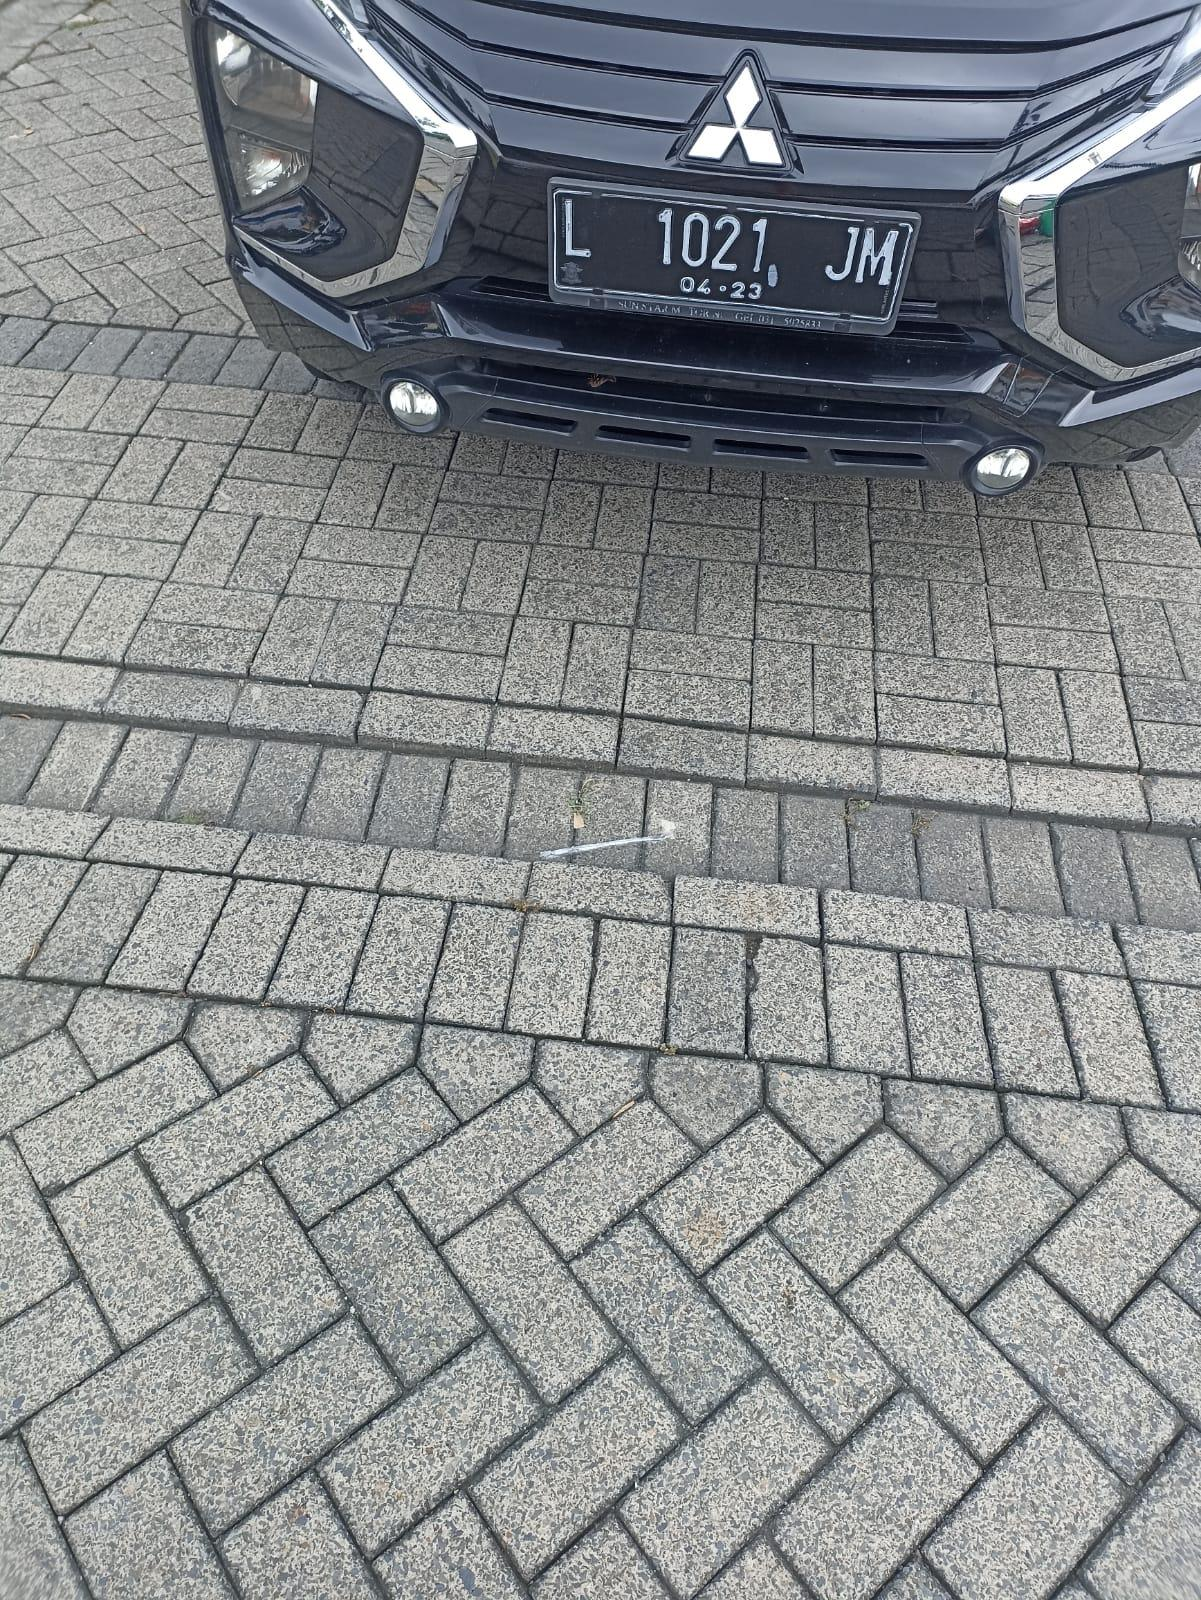plat: (550, 182, 918, 334)
